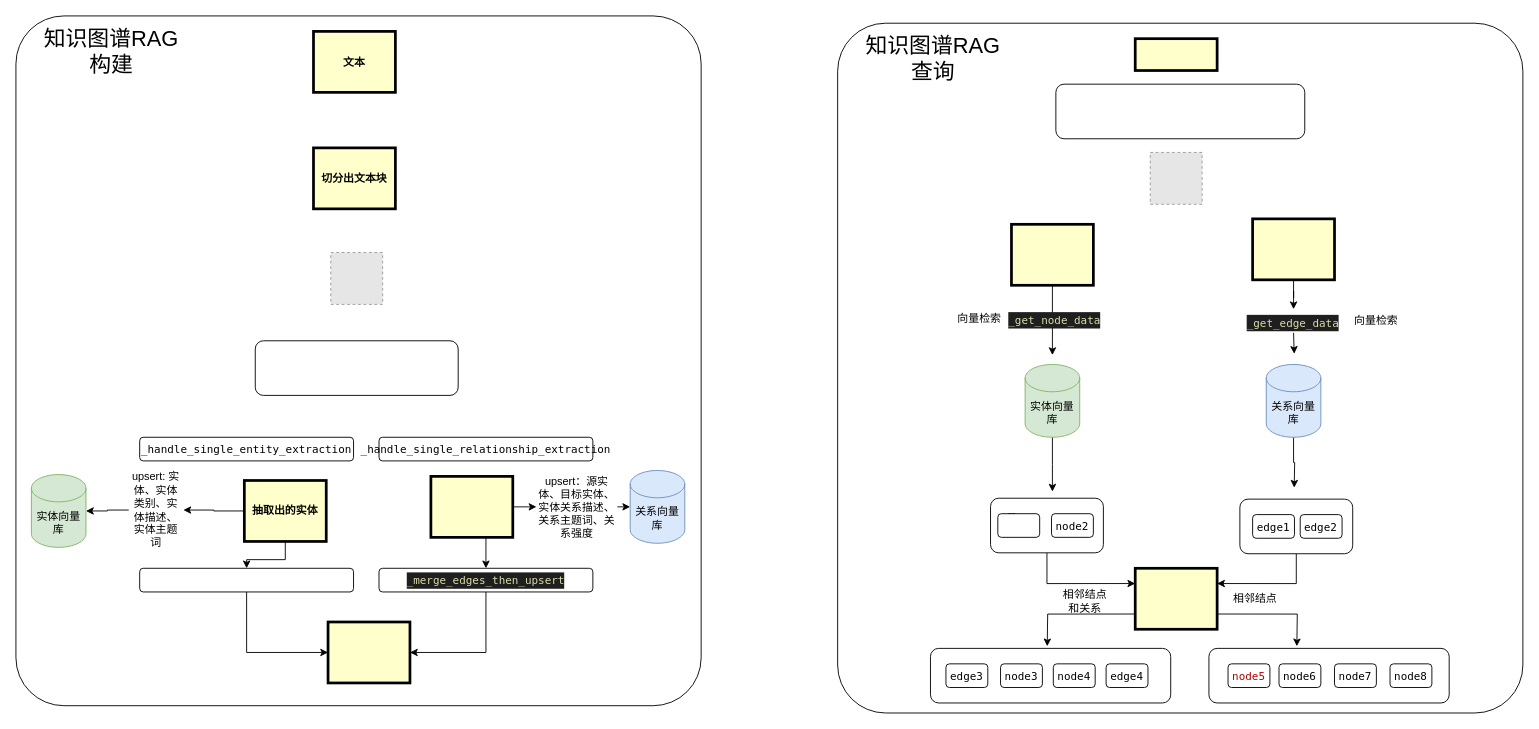
This 1539x729 diagram has some shape labels left out. Grey dashed boxes stand in for pictures. Each missing label, with the centre of its shape:
_merge_nodes_then_upsert: (246,579)
node1: (1018,525)
split_string_by_multi_markers: (356,367)
低级主题词: (1052,254)
使用大模型从查询解析出低级主题词、高级主题词: (1180,111)
抽取出的关系: (471,506)
更新知识图谱: (368,652)
用户查询: (1175,54)
知识图谱: (1175,598)
高级主题词: (1293,249)
